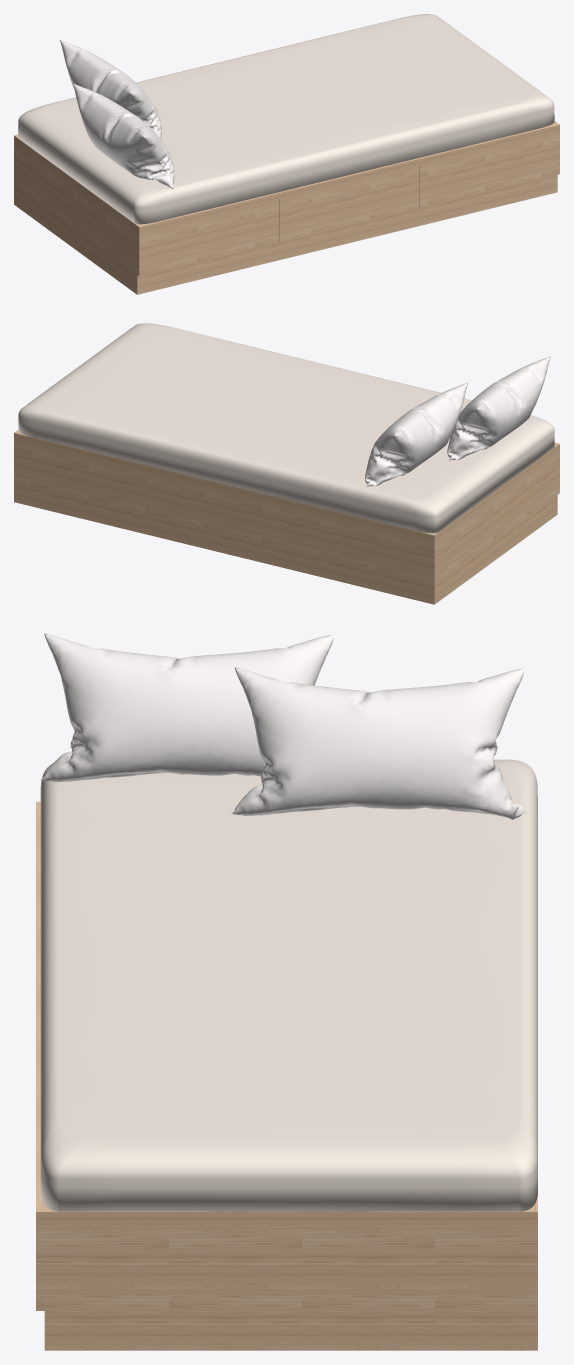
The picture shows the model from 3 angles, top to bottom: view 1: azimuth 30°, elevation 25°; view 2: azimuth 150°, elevation 25°; view 3: azimuth 270°, elevation 25°; orthographic projection. The views are drawn at different scales.
Parts seen in each view (by area): view 1: group_2, group_1, Pattern2D_120 (×2); view 2: group_2, group_1, Pattern2D_120 (×2); view 3: group_2, group_1, Pattern2D_120 (×2).
Boxes of the visible parts, x1,y1,x2,y2 form: group_2: (18,14,554,224); group_1: (14,121,559,294); Pattern2D_120 (×2): (60,40,174,189); group_2: (18,323,554,533); group_1: (14,430,559,604); Pattern2D_120 (×2): (365,356,550,486); group_2: (40,759,537,1211); group_1: (36,801,537,1350); Pattern2D_120 (×2): (40,633,527,819).
Size of the model in its own units: 87.6 by 45.28 by 31.21.
3 materials, 1 textured.
